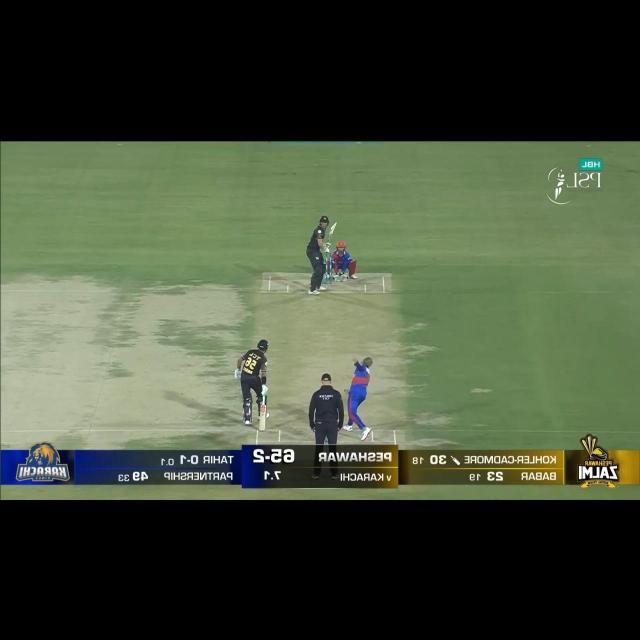bat: (327, 222, 337, 244), (259, 406, 266, 432)
toe: (259, 427, 266, 432), (333, 223, 336, 227)
